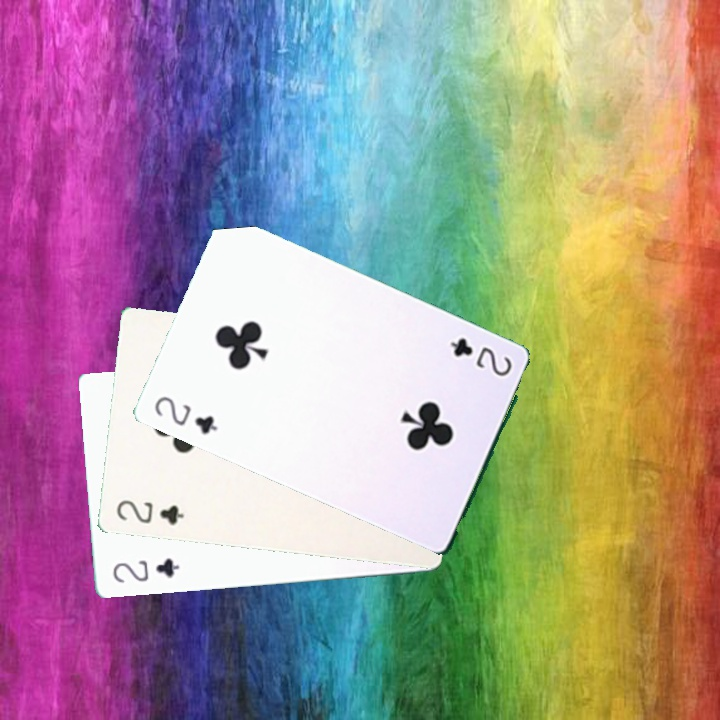2c: (150, 392, 221, 437), (446, 334, 515, 379), (112, 496, 187, 528), (109, 554, 182, 586)
